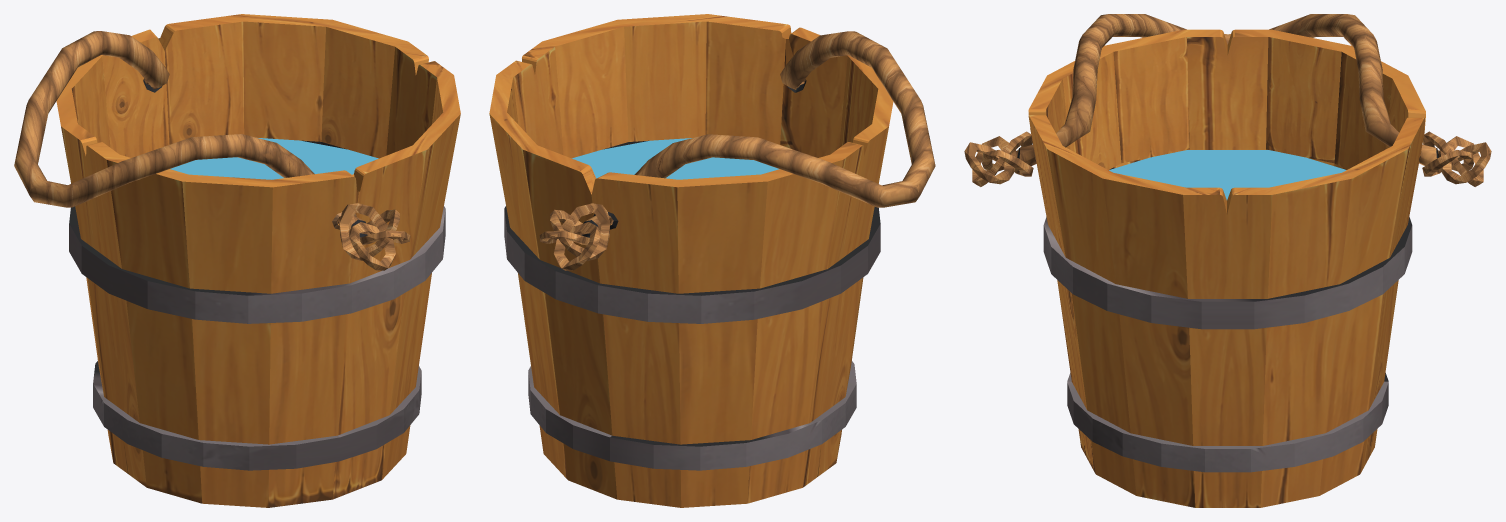
Rendered from paintbucket.glb.
3 views of the same model, side by side, from view 1: azimuth 30°, elevation 25°; view 2: azimuth 150°, elevation 25°; view 3: azimuth 270°, elevation 25° (orthographic). The views are drawn at different scales.
Parts seen in each view (by area): view 1: Bucket_1, Water_0; view 2: Bucket_1, Water_0; view 3: Bucket_1, Water_0.
Boxes of the visible parts, x1=… form: Bucket_1: x1=14, y1=14, x2=460, y2=507; Water_0: x1=170, y1=138, x2=378, y2=179; Bucket_1: x1=489, y1=14, x2=935, y2=507; Water_0: x1=572, y1=138, x2=779, y2=179; Bucket_1: x1=964, y1=14, x2=1491, y2=507; Water_0: x1=1109, y1=150, x2=1346, y2=199.
Bounding box in the file's own units: 2.6 × 2.37 × 3.04.
Materials: 3 (2 with a texture image).
